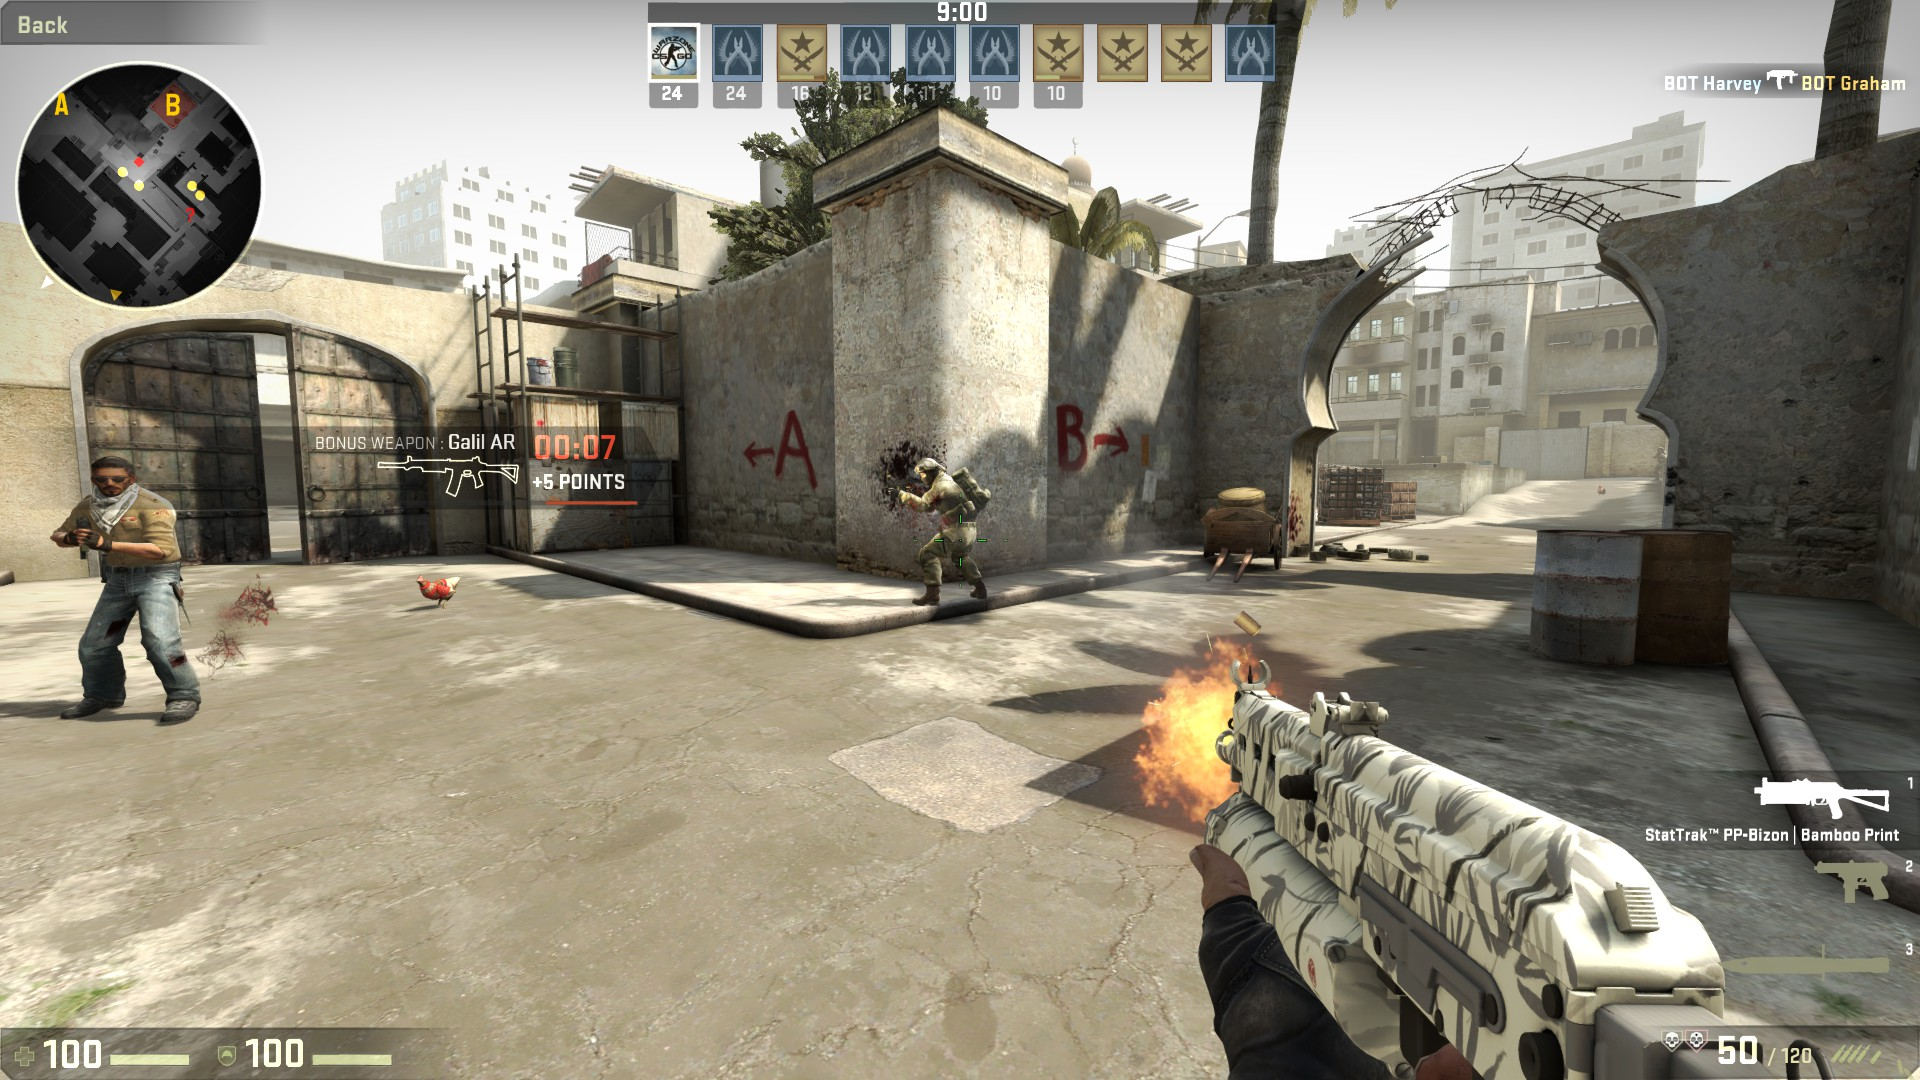c: (910, 458, 985, 607)
ch: (915, 456, 945, 488)
t: (65, 454, 189, 724)
th: (88, 454, 140, 502)
